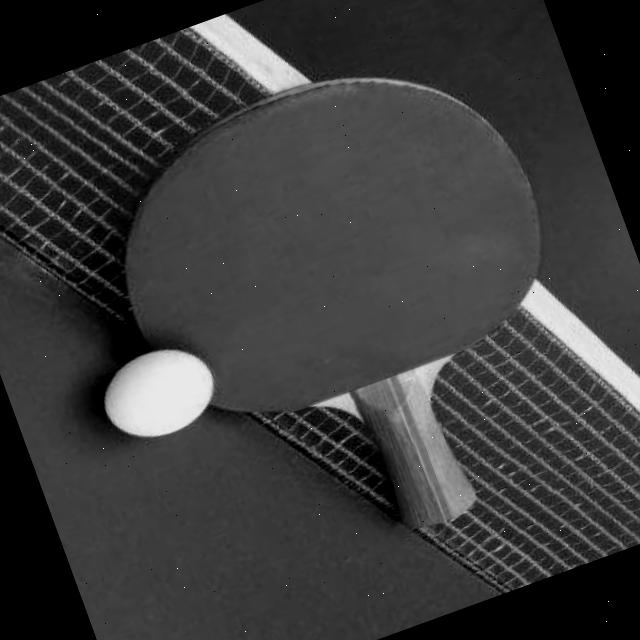ping-pong-ball: (86, 328, 230, 456)
